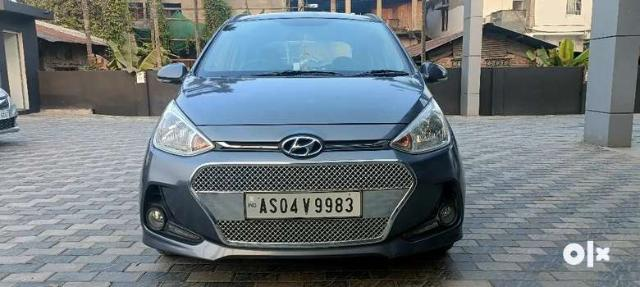Indian_Number_Plate: (245, 191, 362, 217)
